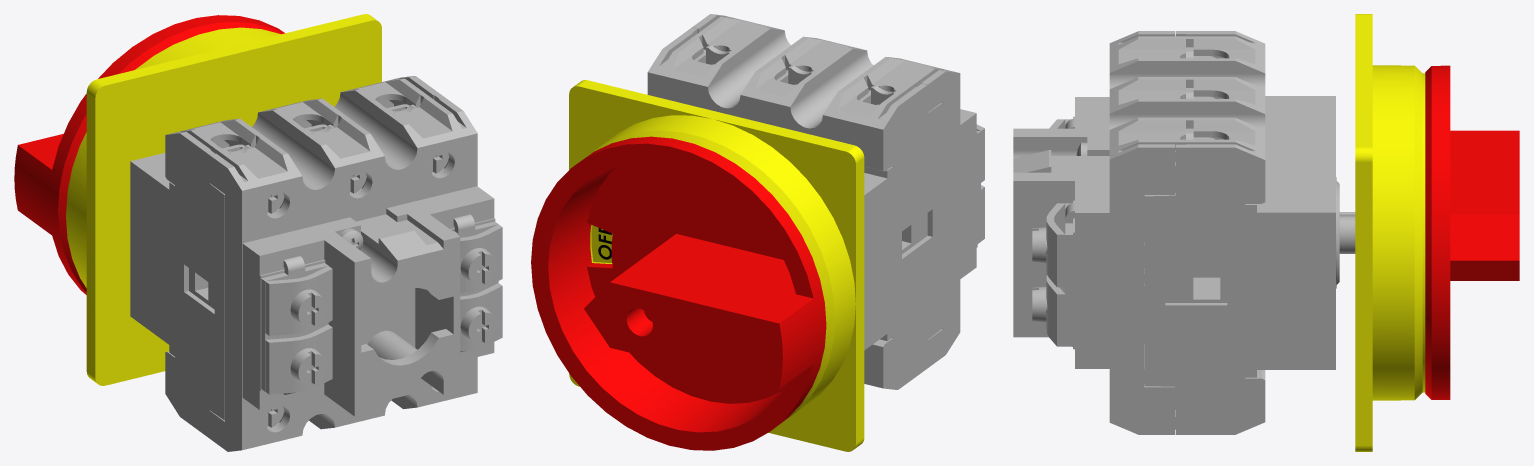
The model's file is Switch.FBX.
3 views of the same model, side by side, from view 1: azimuth 30°, elevation 25°; view 2: azimuth 150°, elevation 25°; view 3: azimuth 270°, elevation 25° (orthographic).
Visible parts, largest first — view 1: Base, Yellow Part, Switch; view 2: Switch, Base, Yellow Part; view 3: Base, Yellow Part, Switch.
Boxes of the visible parts, x1=… form: Base: x1=130, y1=76, x2=502, y2=451; Yellow Part: x1=66, y1=14, x2=381, y2=385; Switch: x1=14, y1=15, x2=284, y2=294; Switch: x1=531, y1=136, x2=826, y2=450; Base: x1=647, y1=14, x2=984, y2=389; Yellow Part: x1=569, y1=80, x2=864, y2=451; Base: x1=1013, y1=31, x2=1355, y2=434; Yellow Part: x1=1355, y1=14, x2=1425, y2=451; Switch: x1=1425, y1=65, x2=1519, y2=399.
Size of the model in its own units: 8.7 by 8.7 by 13.14.
